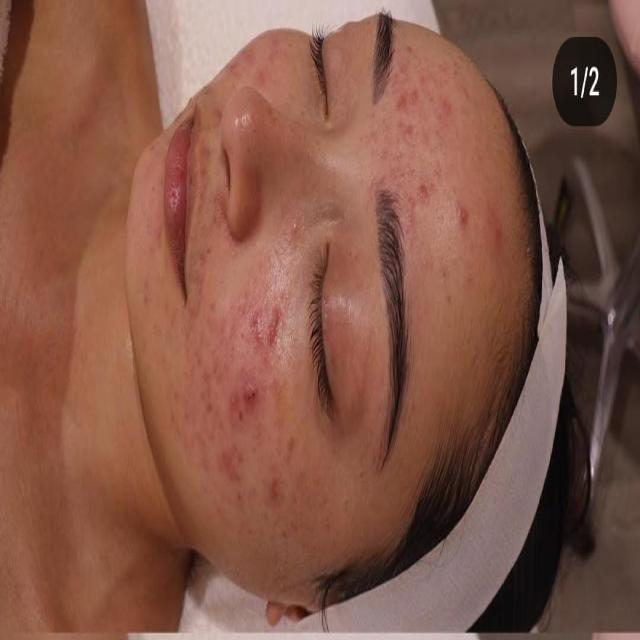Rosacea: (202, 307, 283, 453)
